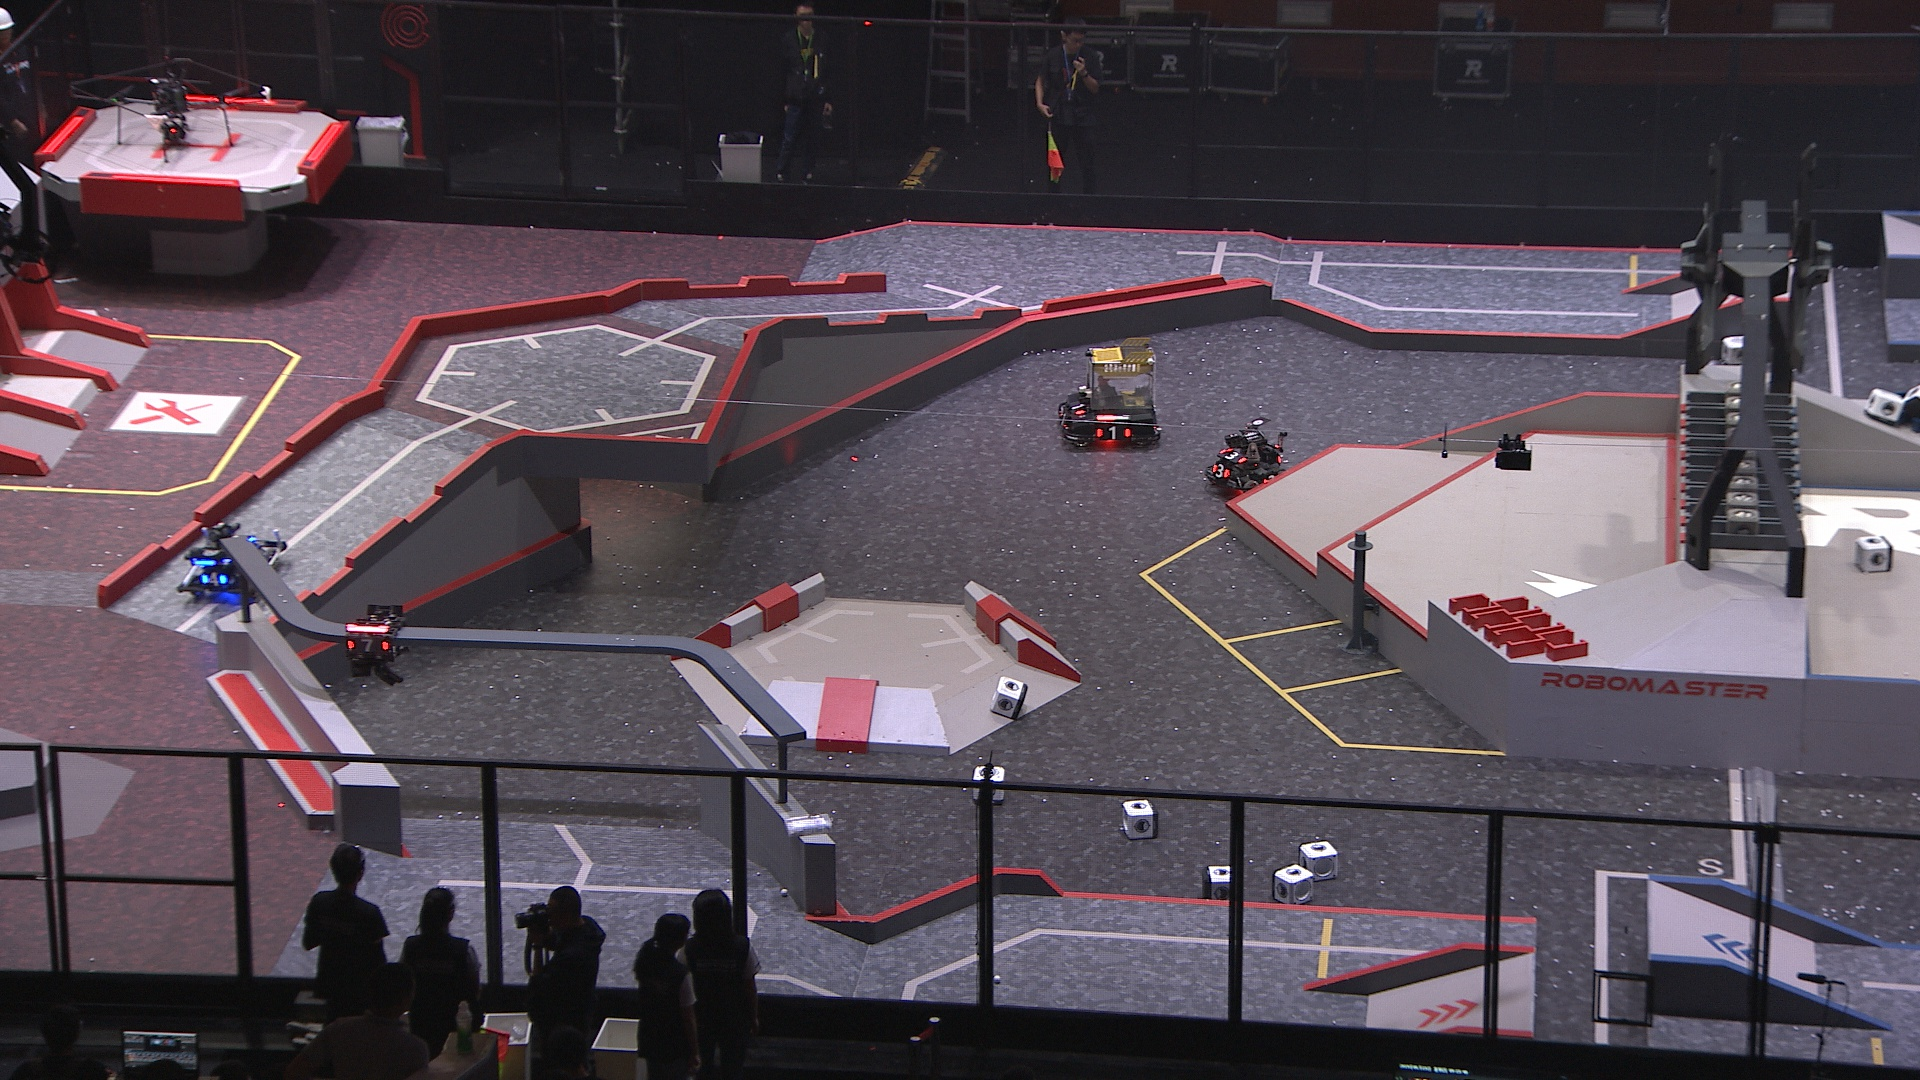armor: (345, 633, 390, 654), (1092, 423, 1133, 442), (199, 570, 229, 588), (1224, 446, 1247, 465), (1054, 404, 1069, 433), (1211, 460, 1232, 481), (1069, 396, 1087, 419)
car: (1048, 335, 1168, 452), (173, 520, 287, 604), (1200, 414, 1291, 500)
watcher: (340, 600, 409, 687)
